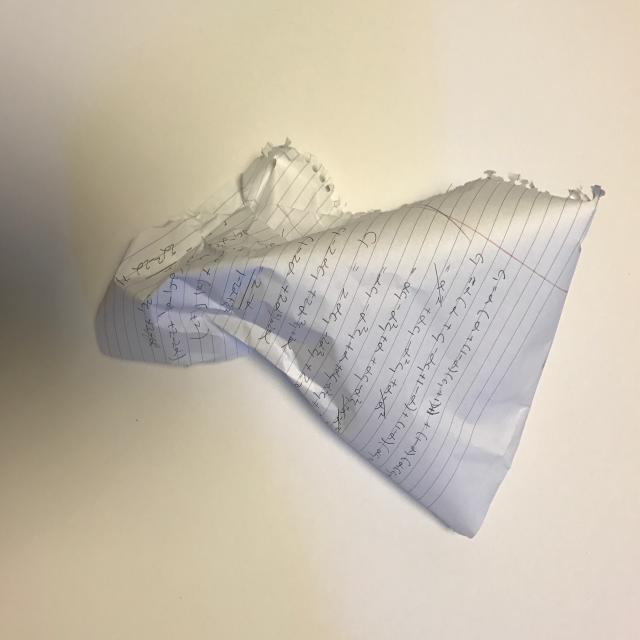paper: (73, 69, 640, 578)
